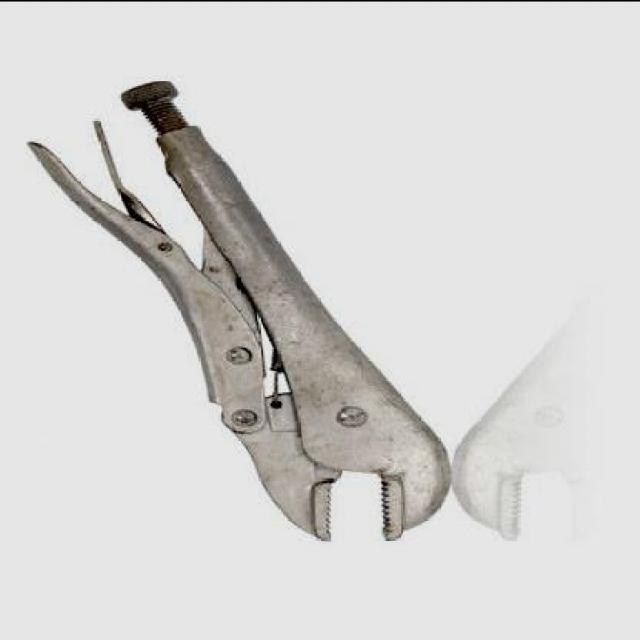pliers: (28, 72, 460, 545)
